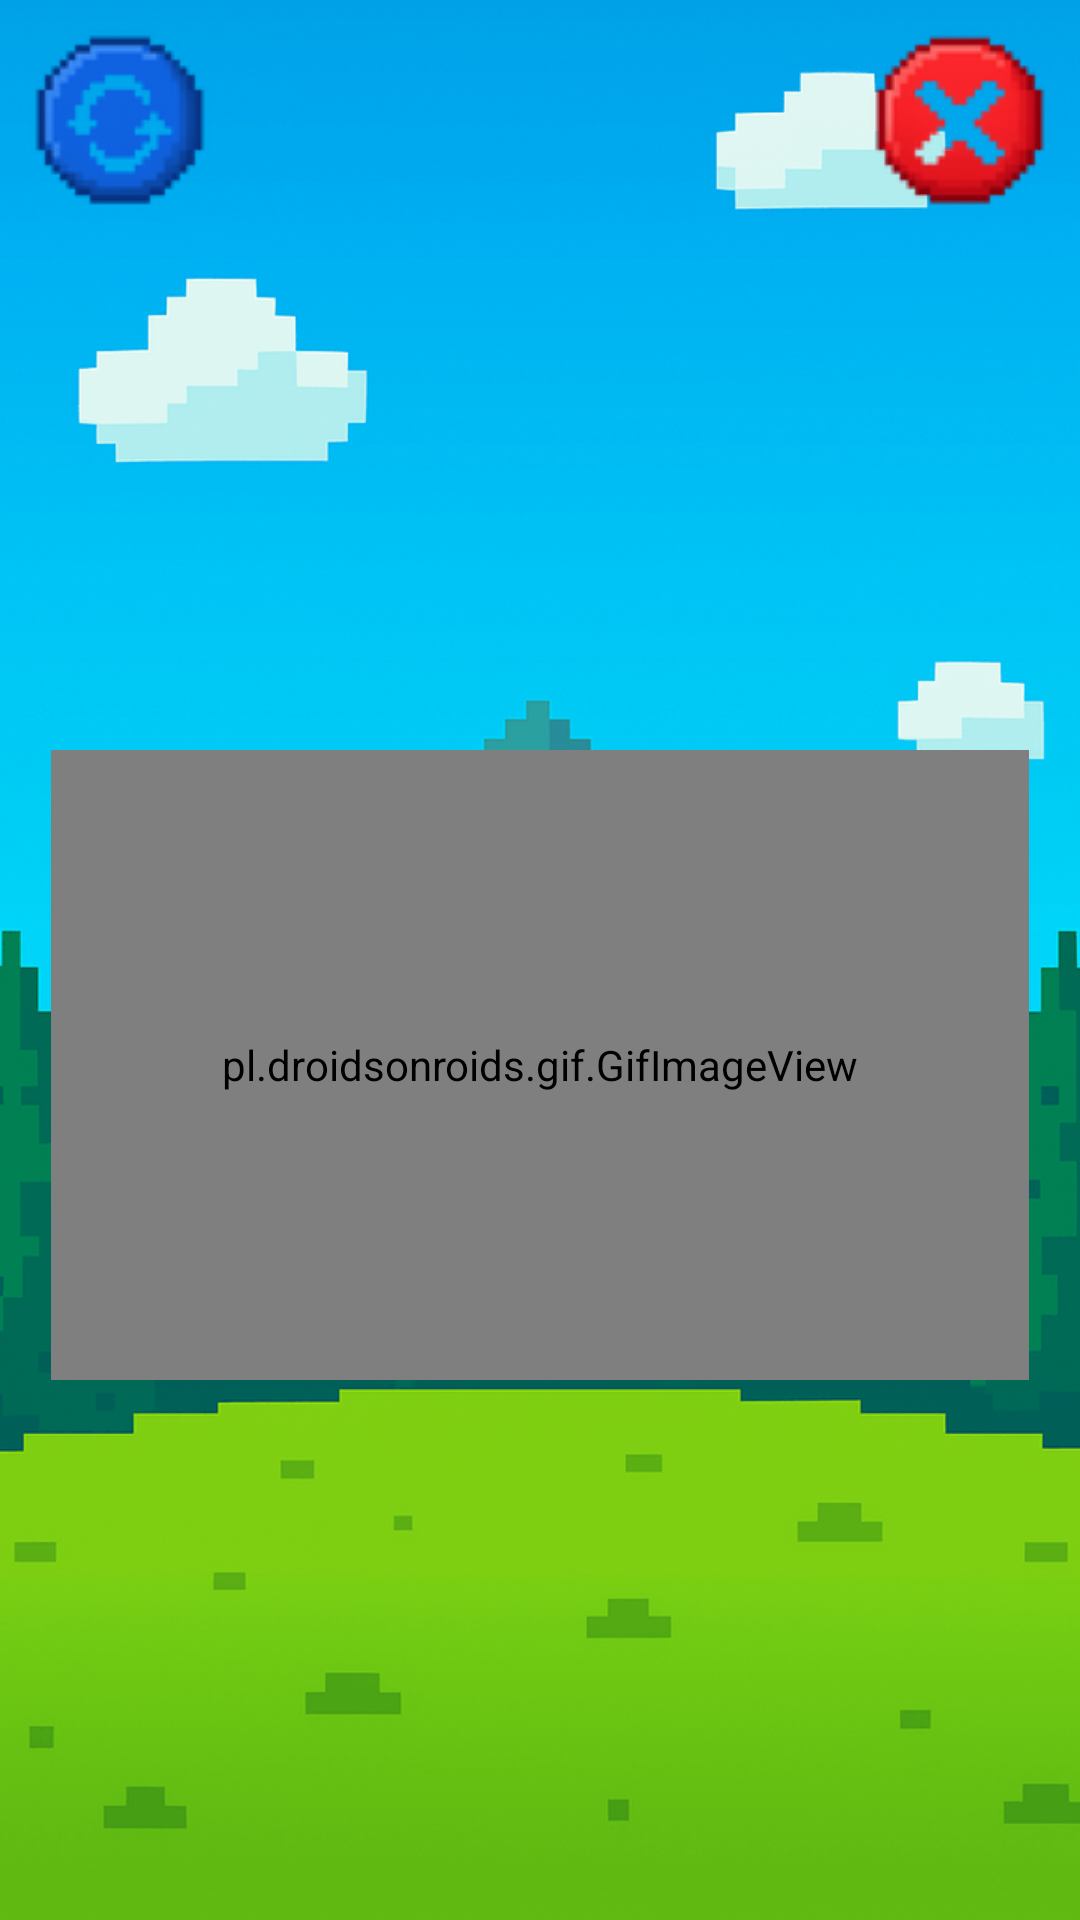

Screen size 1080px x 1920px. Icon name, then its center in pixels as point (x, y):
exitbutton: point (942, 122)
refreshbutton: point (120, 120)
